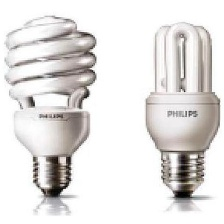light_bulb: (0, 11, 99, 200), (143, 20, 223, 203)
